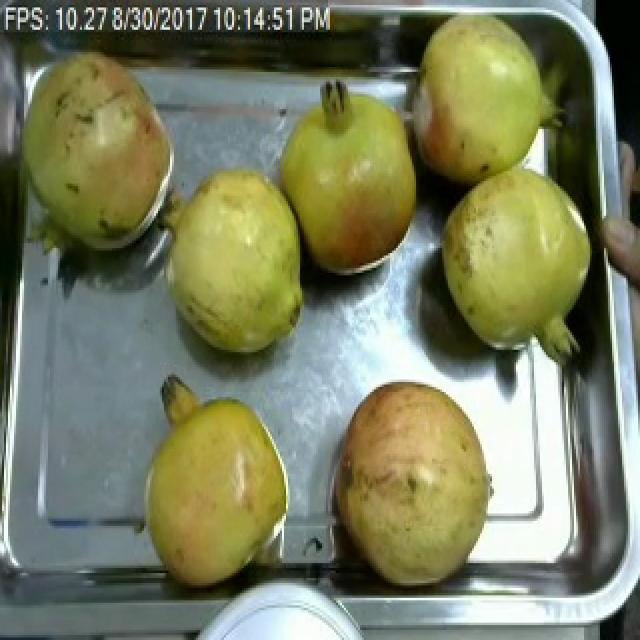fruit: (322, 367, 500, 593), (6, 37, 182, 261), (428, 156, 600, 375), (128, 372, 296, 595), (150, 153, 320, 370), (264, 72, 434, 288), (402, 5, 572, 196)
